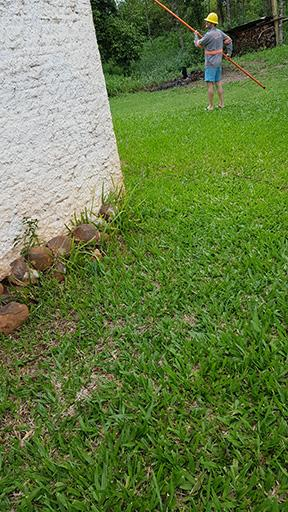Vara_Manobra: (154, 1, 268, 87)
